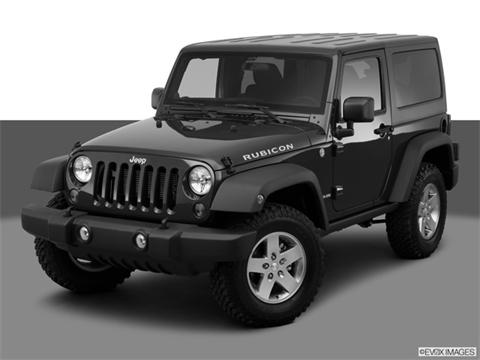car: (15, 1, 466, 326)
